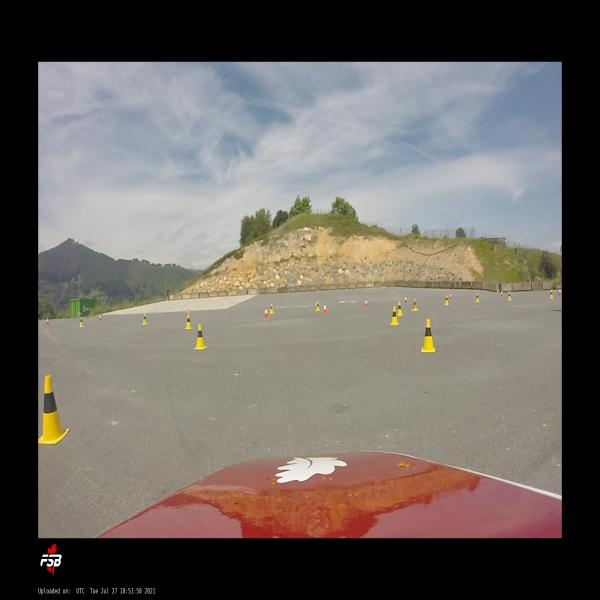orange_cone: (264, 306, 269, 320), (323, 302, 328, 314), (444, 295, 449, 305), (186, 308, 191, 318), (364, 298, 369, 308), (549, 290, 553, 299), (99, 312, 103, 321), (404, 295, 408, 304), (46, 317, 49, 326), (558, 288, 561, 296), (500, 290, 503, 298), (449, 292, 452, 300)
yellow_cone: (38, 375, 70, 445), (421, 318, 435, 353), (194, 324, 207, 350), (390, 306, 399, 326), (185, 314, 193, 330), (397, 301, 403, 316), (412, 298, 418, 311), (142, 313, 148, 325), (315, 300, 320, 312), (79, 316, 84, 328), (444, 295, 449, 305), (507, 291, 512, 301), (270, 303, 274, 314), (475, 292, 479, 302), (549, 290, 553, 299)
